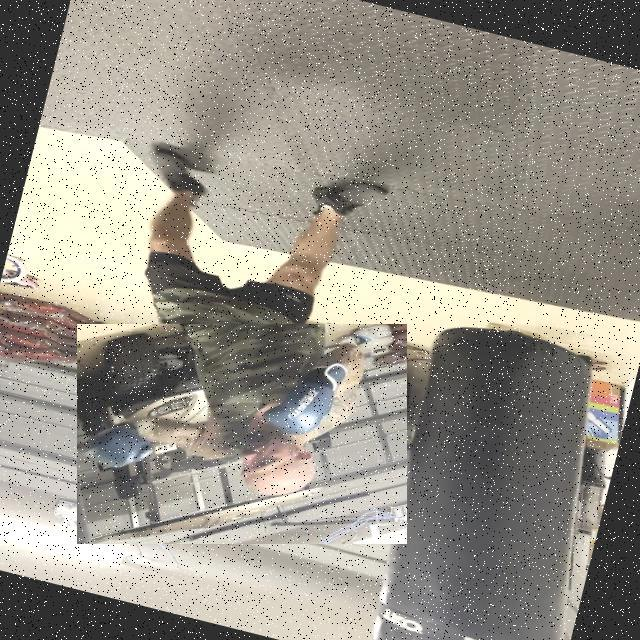punch: (77, 324, 407, 544)
